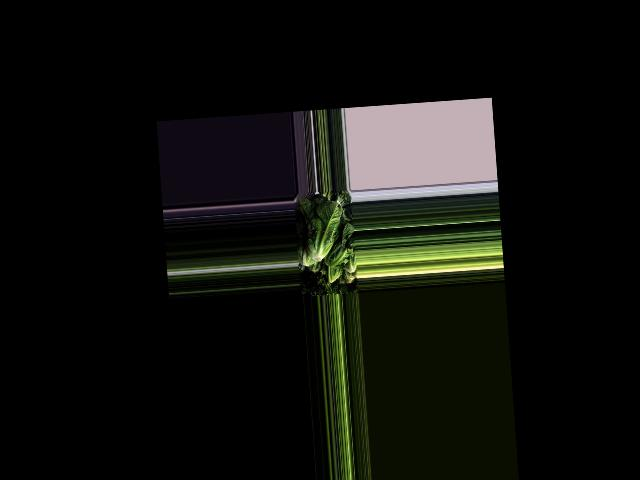lettuce: (322, 220, 354, 268)
